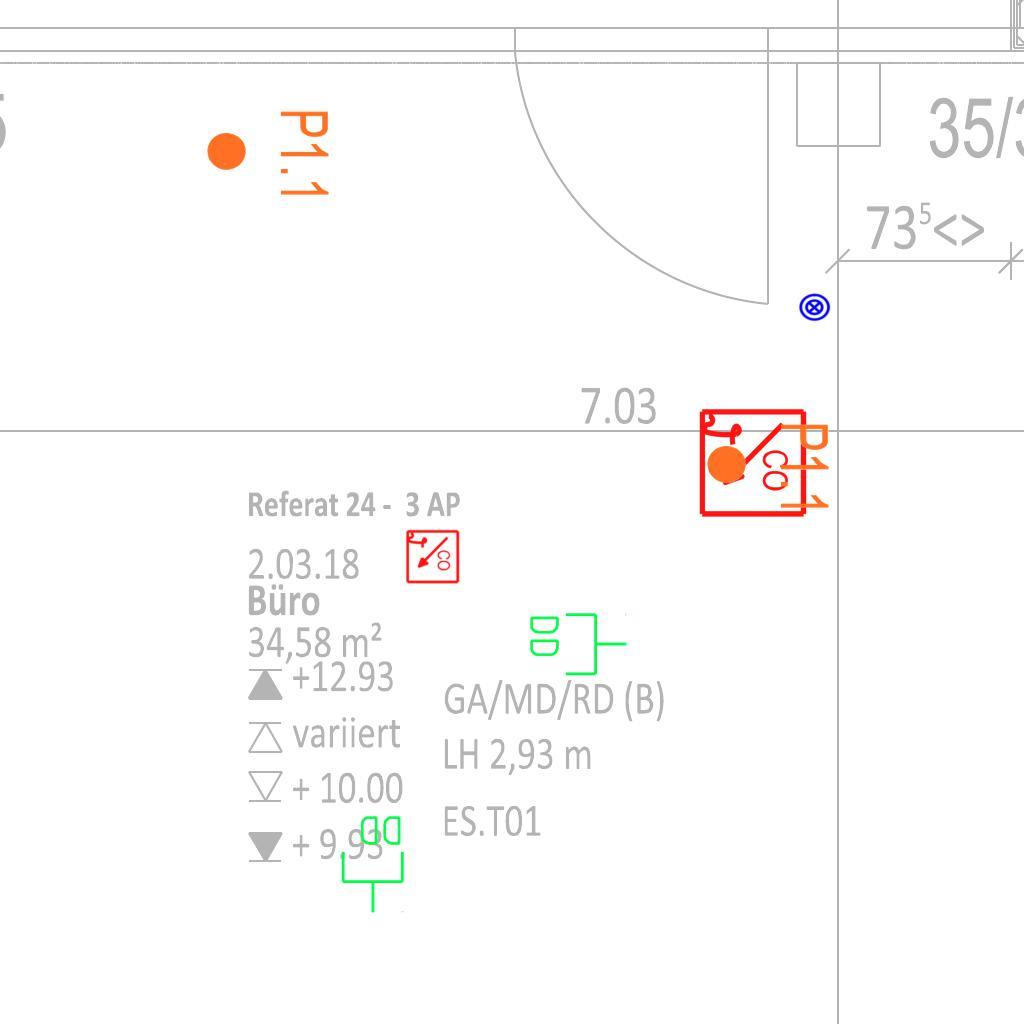Datenanschluss_zweifach: (526, 609, 629, 678), (339, 812, 408, 915)
Downlight_LED_Einbauleuchten_Flur: (204, 108, 332, 201), (704, 421, 832, 514)
ROA_Rauchmelder_optisch_mit_Signalgeber_(Sockelsirene): (695, 407, 808, 520), (404, 529, 460, 585)
Taster_beleuchtet: (798, 291, 831, 324)
